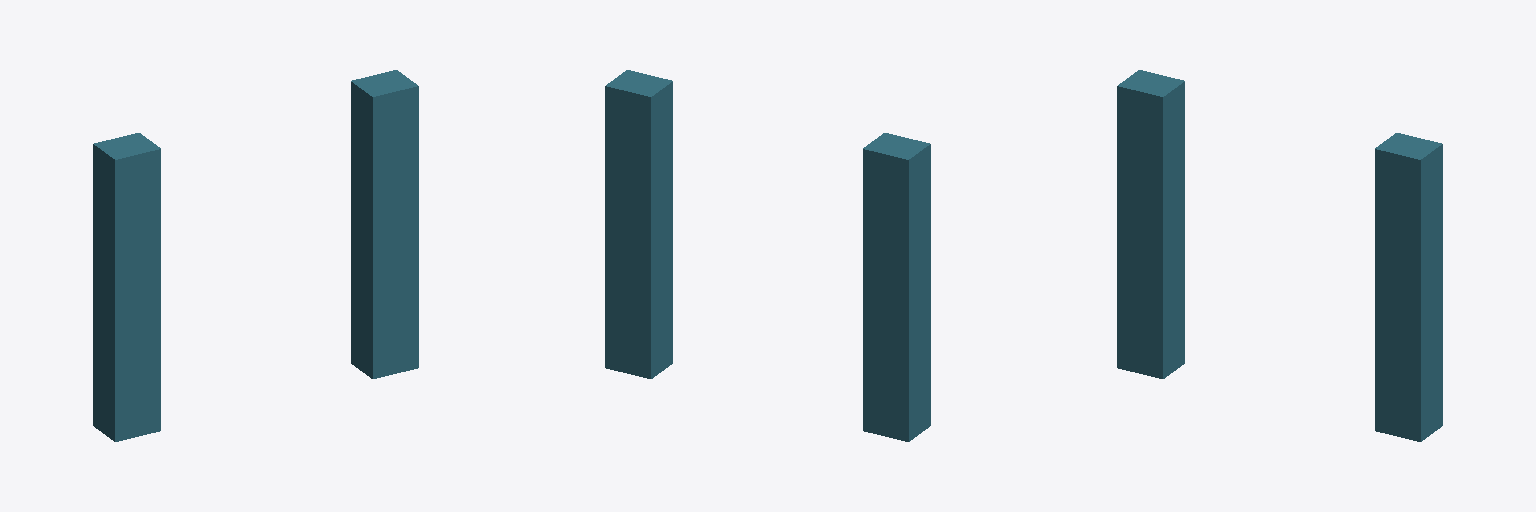
The model's file is handle-pintu.obj.
The picture shows the model from 3 angles: view 1: azimuth 30°, elevation 25°; view 2: azimuth 150°, elevation 25°; view 3: azimuth 330°, elevation 25°; orthographic projection.
Visible parts, largest first — view 1: Cube.088_Cube.002_Cube.088_Cube.004, Cube.088_Cube.003_Cube.088_Cube.006; view 2: Cube.088_Cube.002_Cube.088_Cube.004, Cube.088_Cube.003_Cube.088_Cube.006; view 3: Cube.088_Cube.002_Cube.088_Cube.004, Cube.088_Cube.003_Cube.088_Cube.006.
Boxes of the visible parts, box(x1,y1,x2,y2) form: Cube.088_Cube.002_Cube.088_Cube.004: box(351, 70, 418, 378); Cube.088_Cube.003_Cube.088_Cube.006: box(93, 133, 160, 441); Cube.088_Cube.002_Cube.088_Cube.004: box(605, 70, 672, 378); Cube.088_Cube.003_Cube.088_Cube.006: box(863, 133, 930, 441); Cube.088_Cube.002_Cube.088_Cube.004: box(1375, 133, 1442, 441); Cube.088_Cube.003_Cube.088_Cube.006: box(1117, 70, 1184, 378).
Size of the model in its own units: 2.48 by 2.2 by 0.3146.